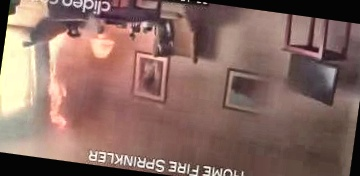fire: (28, 27, 96, 139)
